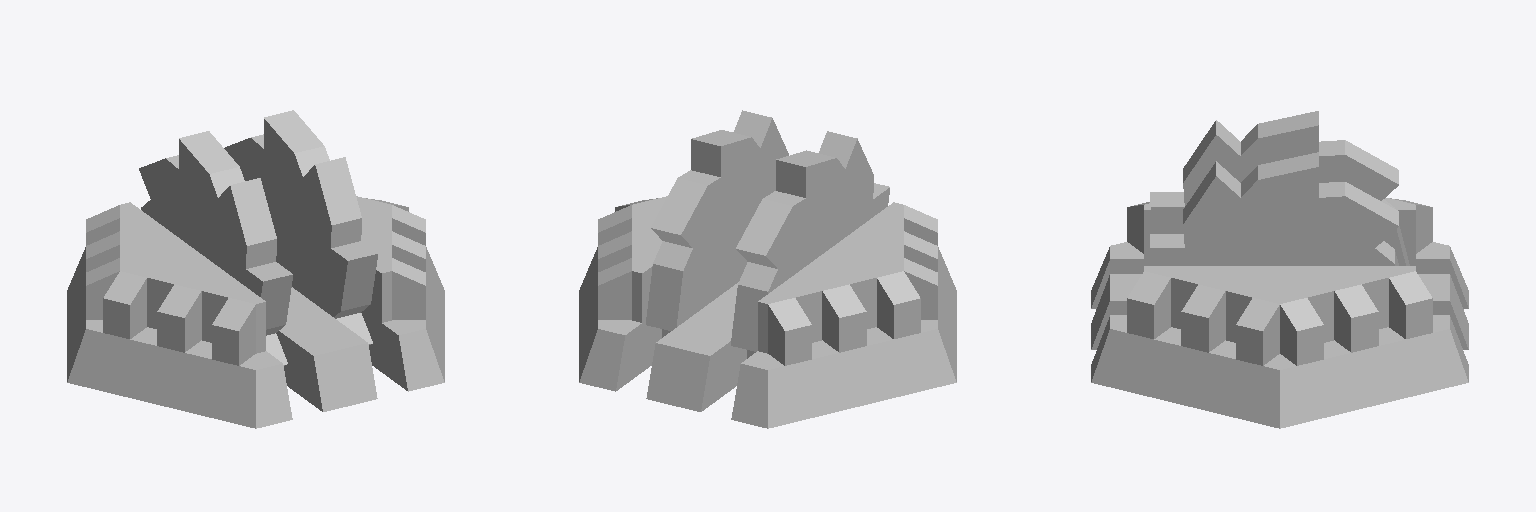
The model's file is rumad_moho.obj.
The picture shows the model from 3 angles: view 1: azimuth 30°, elevation 25°; view 2: azimuth 150°, elevation 25°; view 3: azimuth 270°, elevation 25°; orthographic projection.
Visible parts, largest first — view 1: cylinder12_copy34, cylinder16_sep32, cylinder12_copy33, cylinder16, cylinder16_extract39, cylinder16_extract18, cylinder16_cut36, cylinder16_copy30, cylinder16_copy24, cylinder16_cut35; view 2: cylinder12_copy34, cylinder16_sep32, cylinder12_copy33, cylinder16, cylinder16_extract39, cylinder16_copy24, cylinder16_cut36, cylinder16_copy23, cylinder16_extract18, cylinder16_cut35; view 3: cylinder16_cut36, cylinder12_copy34, cylinder12_copy33, cylinder16_cut35, cylinder16_copy30, cylinder16_copy23, cylinder16_extract39, cylinder16_sep32, cylinder16, cylinder16_copy24, cylinder16_extract18.
Boxes of the visible parts, x1=… form: cylinder12_copy34: x1=224, y1=110, x2=377, y2=344; cylinder16_sep32: x1=67, y1=247, x2=292, y2=428; cylinder12_copy33: x1=139, y1=131, x2=292, y2=365; cylinder16: x1=120, y1=202, x2=265, y2=353; cylinder16_extract39: x1=276, y1=287, x2=377, y2=411; cylinder16_extract18: x1=103, y1=271, x2=255, y2=365; cylinder16_cut36: x1=361, y1=247, x2=444, y2=391; cylinder16_copy30: x1=392, y1=205, x2=425, y2=319; cylinder16_copy24: x1=86, y1=205, x2=119, y2=319; cylinder16_cut35: x1=356, y1=196, x2=391, y2=322; cylinder12_copy34: x1=646, y1=110, x2=788, y2=337; cylinder16_sep32: x1=731, y1=247, x2=956, y2=428; cylinder12_copy33: x1=731, y1=131, x2=889, y2=358; cylinder16: x1=758, y1=202, x2=903, y2=353; cylinder16_extract39: x1=646, y1=282, x2=746, y2=411; cylinder16_copy24: x1=768, y1=271, x2=920, y2=365; cylinder16_cut36: x1=579, y1=247, x2=661, y2=391; cylinder16_copy23: x1=598, y1=205, x2=631, y2=319; cylinder16_extract18: x1=904, y1=205, x2=937, y2=319; cylinder16_cut35: x1=632, y1=196, x2=667, y2=322; cylinder16_cut36: x1=1091, y1=315, x2=1468, y2=428; cylinder12_copy34: x1=1150, y1=152, x2=1398, y2=265; cylinder12_copy33: x1=1150, y1=111, x2=1409, y2=265; cylinder16_cut35: x1=1144, y1=266, x2=1415, y2=342; cylinder16_copy30: x1=1127, y1=271, x2=1279, y2=365; cylinder16_copy23: x1=1280, y1=271, x2=1432, y2=365; cylinder16_extract39: x1=1091, y1=274, x2=1468, y2=349; cylinder16_sep32: x1=1091, y1=242, x2=1468, y2=308; cylinder16: x1=1144, y1=198, x2=1415, y2=258; cylinder16_copy24: x1=1390, y1=198, x2=1432, y2=253; cylinder16_extract18: x1=1127, y1=202, x2=1149, y2=253.
Bounding box in the file's own units: 16 × 9.5 × 13.86.